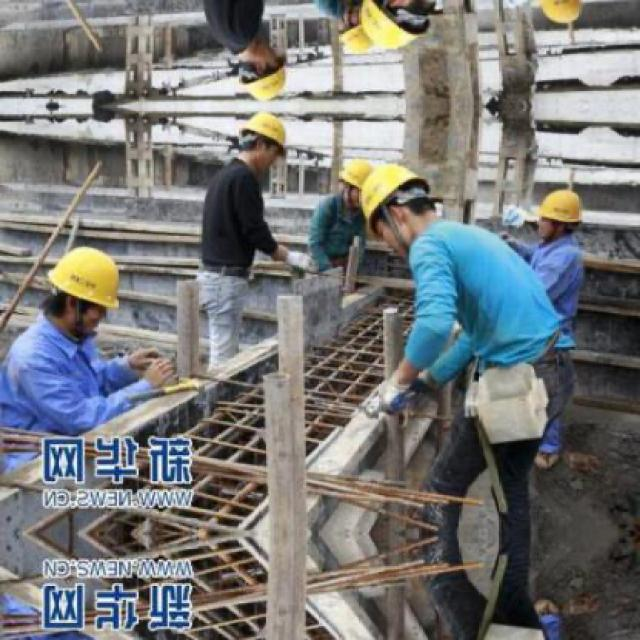con casco: (346, 157, 482, 287), (18, 232, 142, 332), (503, 158, 622, 258), (204, 108, 326, 192)
